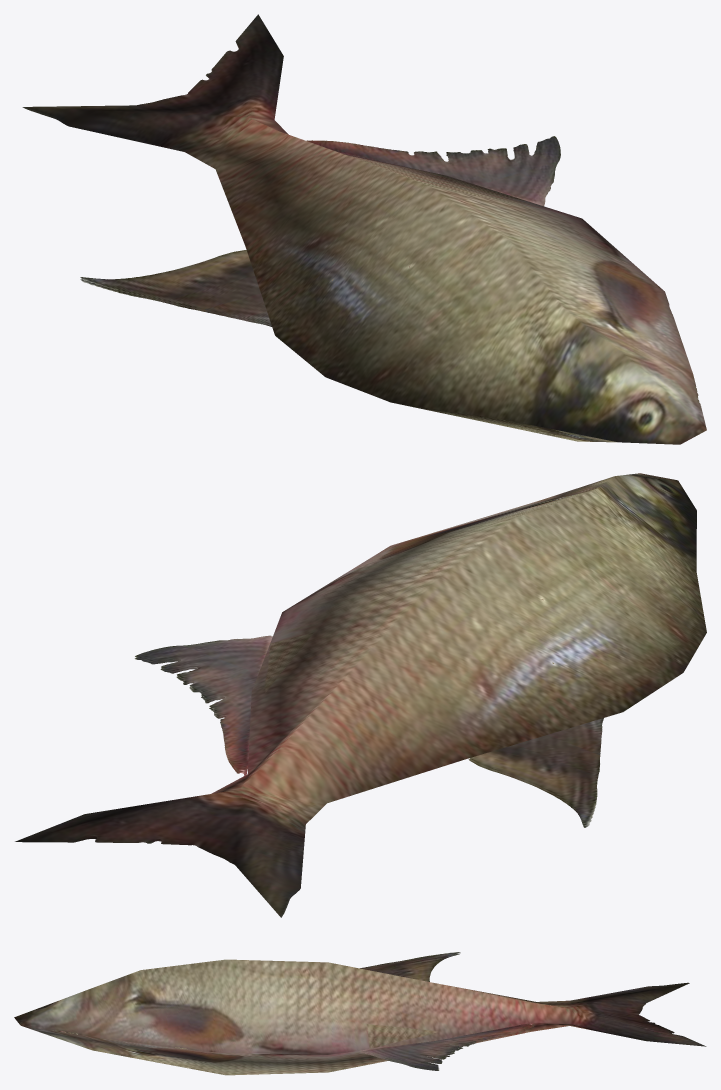
Rendered from Fish.fbx.
3 renders of one model, top to bottom at view 1: azimuth 30°, elevation 25°; view 2: azimuth 150°, elevation 25°; view 3: azimuth 270°, elevation 25°, orthographic. The views are drawn at different scales.
Parts seen in each view (by area): view 1: fresh fish; view 2: fresh fish; view 3: fresh fish.
Boxes of the visible parts, x1,y1,x2,y2 form: fresh fish: (22,14,706,444); fresh fish: (15,473,706,917); fresh fish: (14,952,706,1075).
Bounding box in the file's own units: 30.98 × 10.53 × 59.37.
